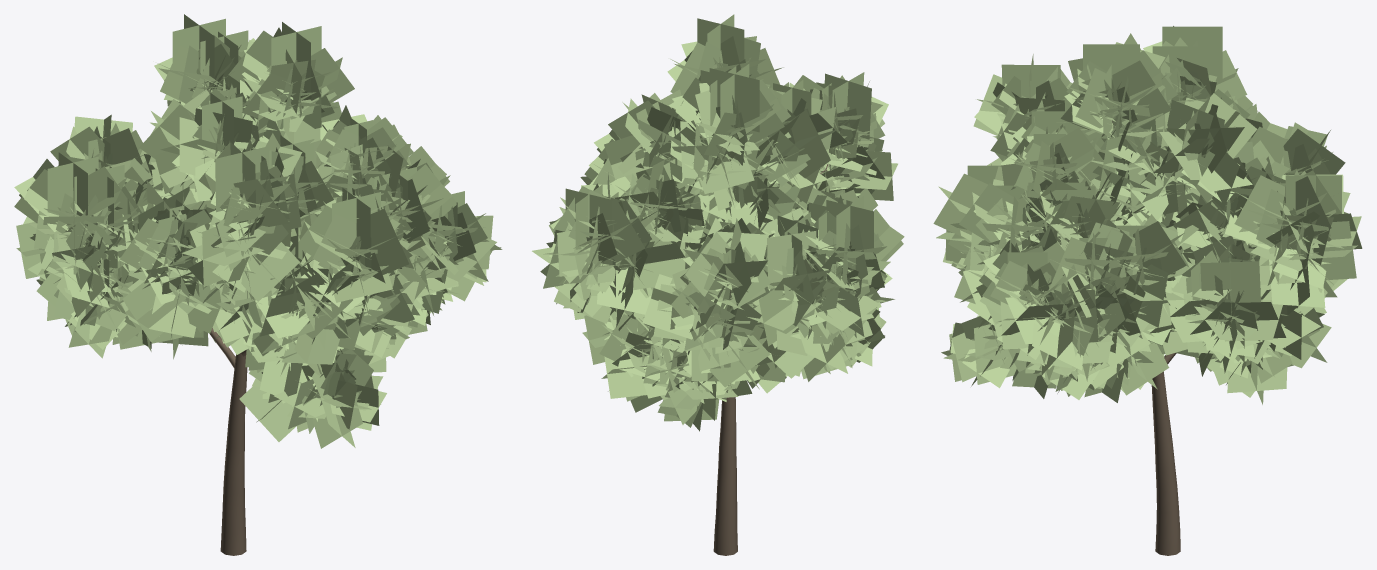
Rendered from tree.glb.
3 renders of one model, left to right at view 1: azimuth 30°, elevation 25°; view 2: azimuth 150°, elevation 25°; view 3: azimuth 270°, elevation 25°, orthographic. The views are drawn at different scales.
Parts seen in each view (by area): view 1: tree-crown, tree-trunk; view 2: tree-crown, tree-trunk; view 3: tree-crown, tree-trunk.
Boxes of the visible parts, box(x1,y1,x2,y2) form: tree-crown: box(14, 14, 502, 448); tree-trunk: box(210, 328, 247, 555); tree-crown: box(532, 14, 904, 431); tree-trunk: box(713, 164, 828, 555); tree-crown: box(933, 26, 1362, 404); tree-trunk: box(1112, 120, 1180, 555).
Size of the model in its own units: 3.5 by 4.5 by 3.35.
